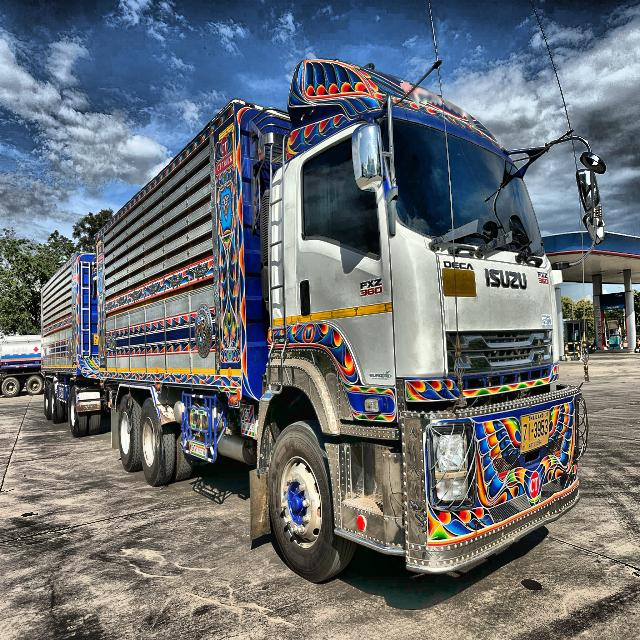trailer: (26, 42, 615, 607)
